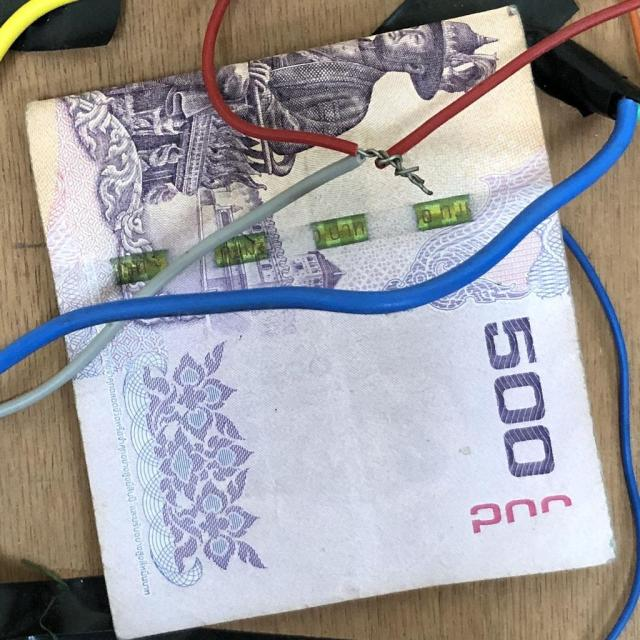THAI500: (71, 212, 616, 639), (160, 68, 554, 296), (24, 72, 348, 315), (216, 6, 529, 151)
